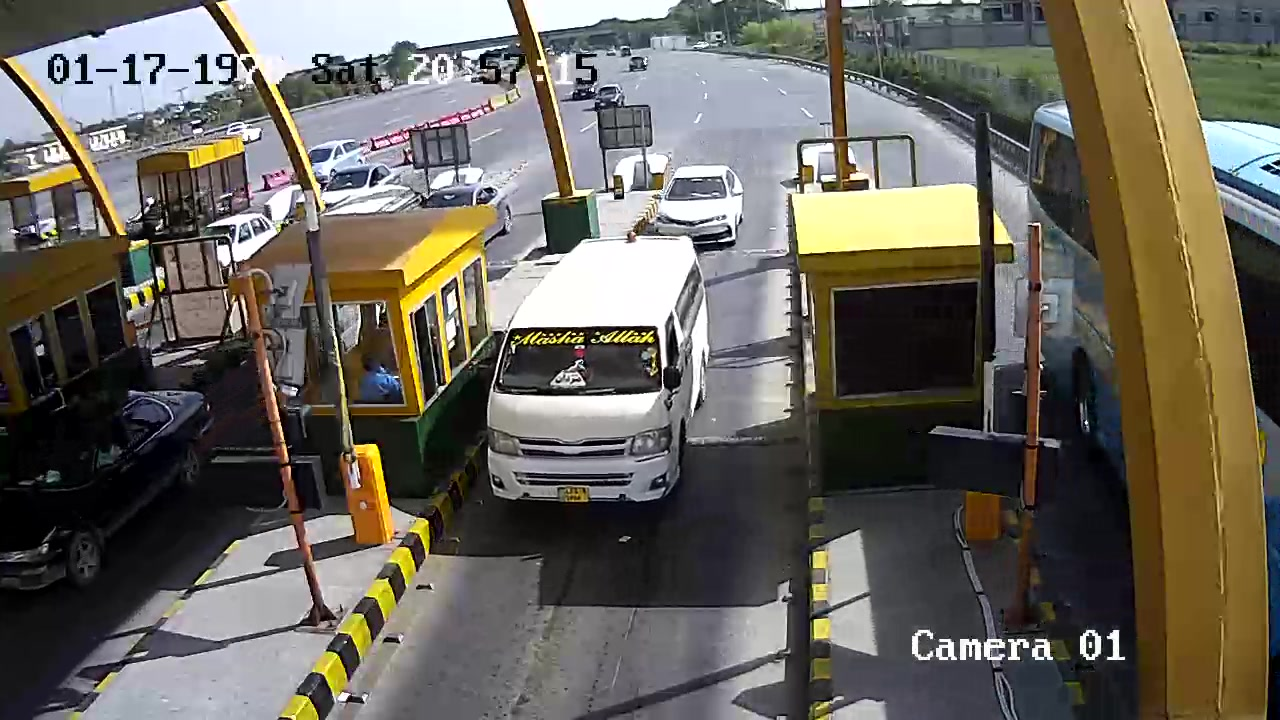F2: (479, 225, 716, 527)
